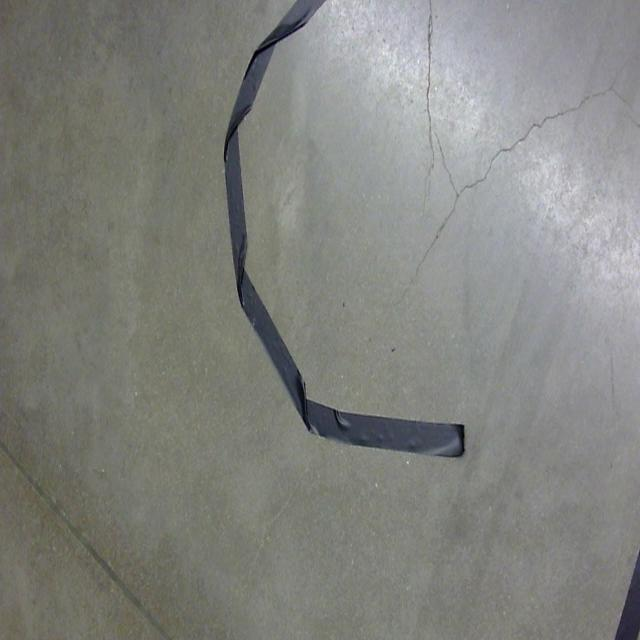tape: (204, 0, 476, 500), (600, 525, 640, 640)
